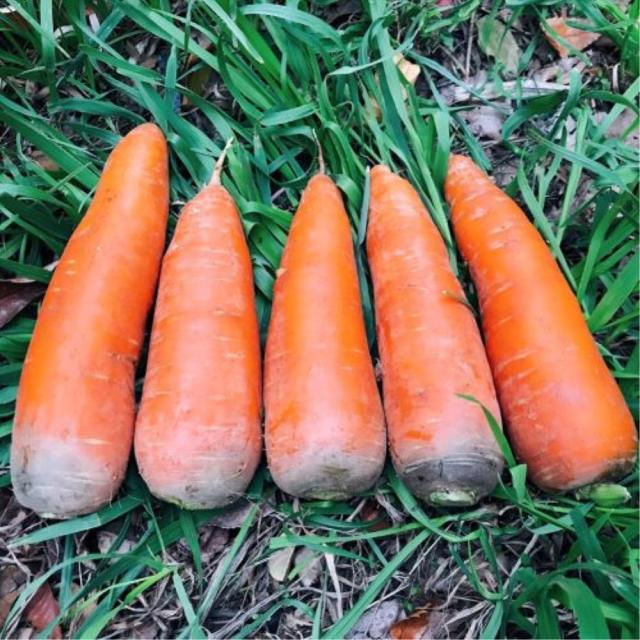carrot: (441, 149, 638, 490), (10, 116, 173, 518), (363, 161, 513, 505), (134, 151, 272, 515), (266, 172, 390, 503)
